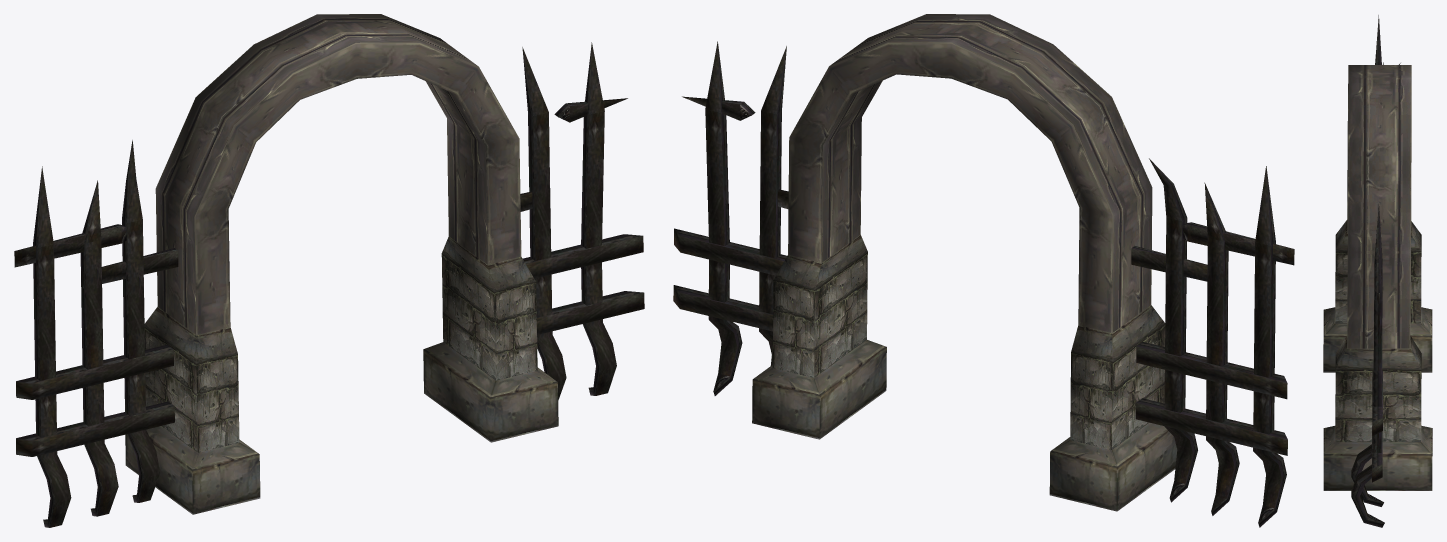
The model's file is S_Build_Muxue025.FBX.
3 renders of one model, left to right at view 1: azimuth 30°, elevation 25°; view 2: azimuth 150°, elevation 25°; view 3: azimuth 270°, elevation 25°, orthographic. The views are drawn at different scales.
Parts seen in each view (by area): view 1: S_Build_Muxue025; view 2: S_Build_Muxue025; view 3: S_Build_Muxue025.
Part boxes in pixels (x1,y1,x2,y2): S_Build_Muxue025: [14, 14, 644, 527]; S_Build_Muxue025: [673, 14, 1294, 527]; S_Build_Muxue025: [1323, 15, 1432, 527].
Size of the model in its own units: 966 by 180 by 634.
